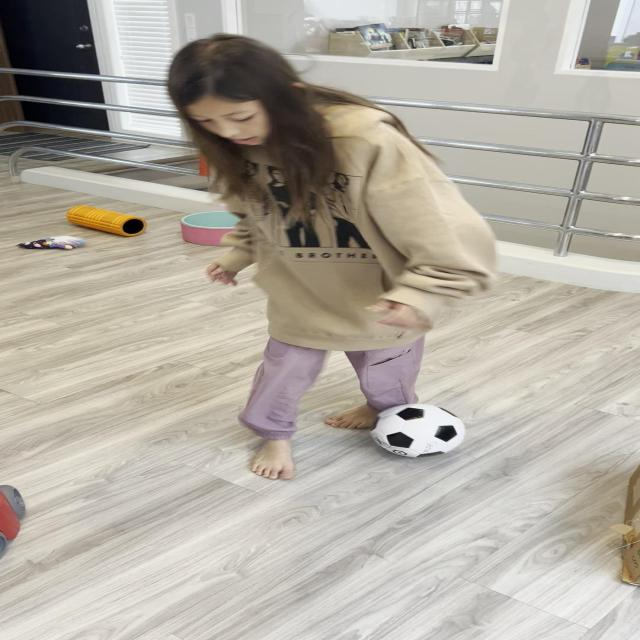Soccer Ball: (372, 404, 465, 458)
